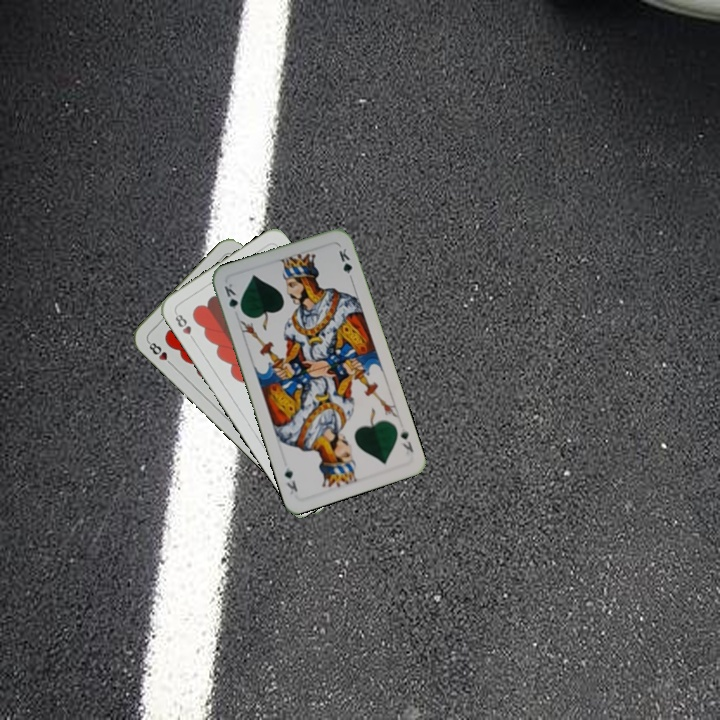GK: (220, 279, 245, 316), (396, 424, 416, 455)
H8: (144, 337, 176, 369), (171, 308, 198, 344)
